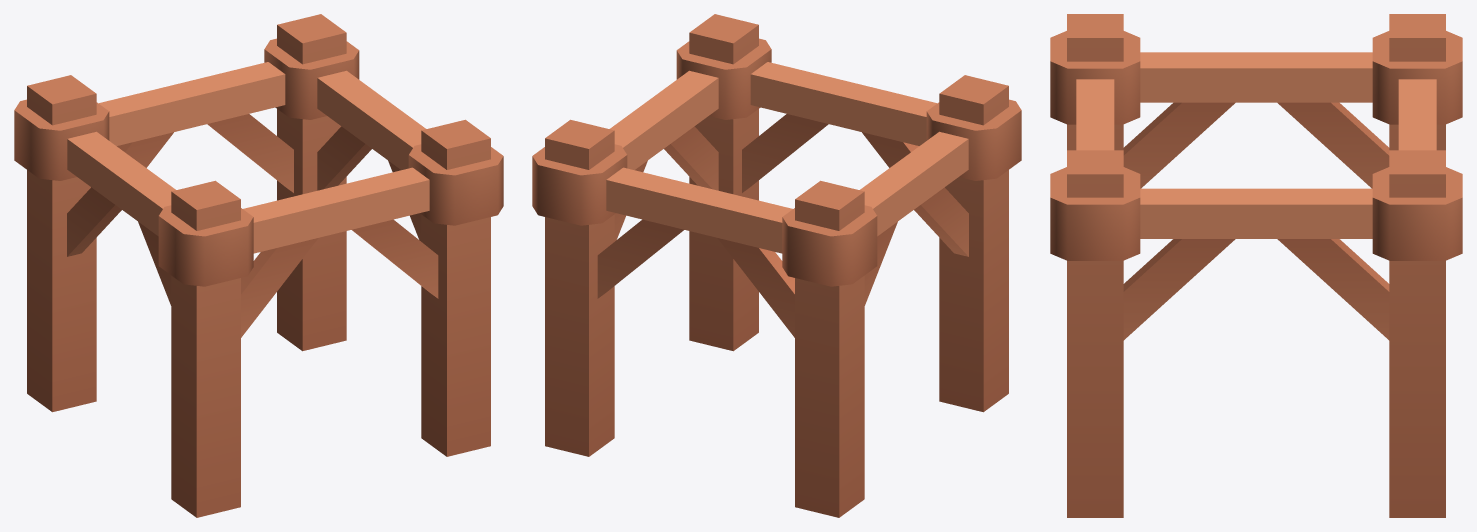
The model's file is wood-structure.obj.
The picture shows the model from 3 angles, left to right: view 1: azimuth 30°, elevation 25°; view 2: azimuth 150°, elevation 25°; view 3: azimuth 270°, elevation 25°; orthographic projection. The views are drawn at different scales.
Visible parts, largest first — view 1: wood-structure; view 2: wood-structure; view 3: wood-structure.
Part boxes in pixels (x1,y1,x2,y2): wood-structure: (14, 14, 503, 517); wood-structure: (532, 14, 1021, 517); wood-structure: (1050, 14, 1462, 517).
Bounding box in the file's own units: 1.09 × 1 × 1.09.
1 material, 1 textured.
